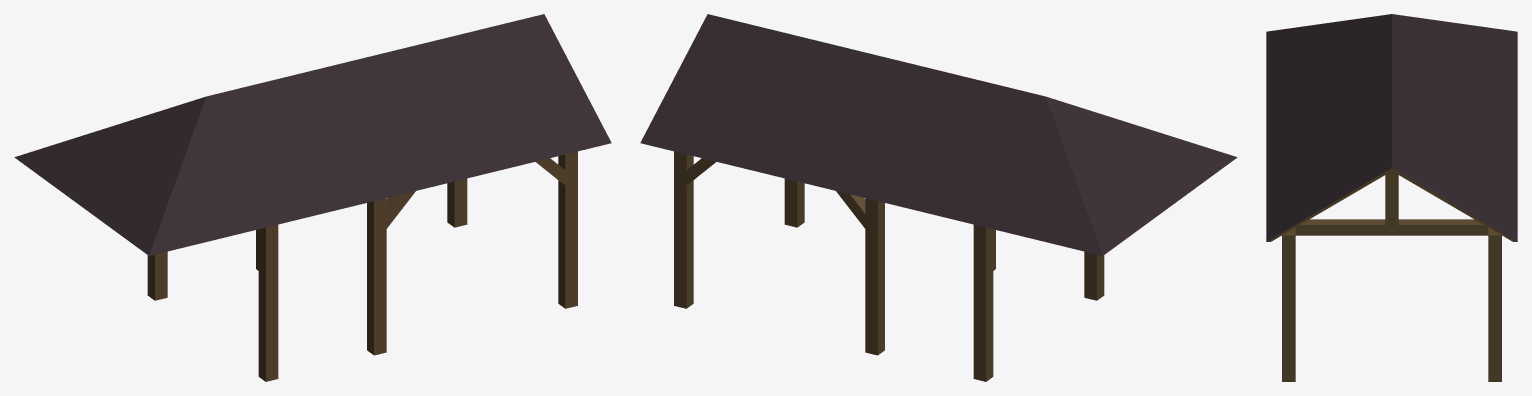
File: structure_area_40.fbx
3 views of the same model, side by side, from view 1: azimuth 30°, elevation 25°; view 2: azimuth 150°, elevation 25°; view 3: azimuth 270°, elevation 25° (orthographic). The views are drawn at different scales.
Parts seen in each view (by area): view 1: Cube.001; view 2: Cube.001; view 3: Cube.001.
Part boxes in pixels (x1,y1,x2,y2): Cube.001: (14, 14, 611, 381); Cube.001: (640, 14, 1237, 381); Cube.001: (1266, 14, 1517, 381).
Size of the model in its own units: 774 by 388 by 391.
